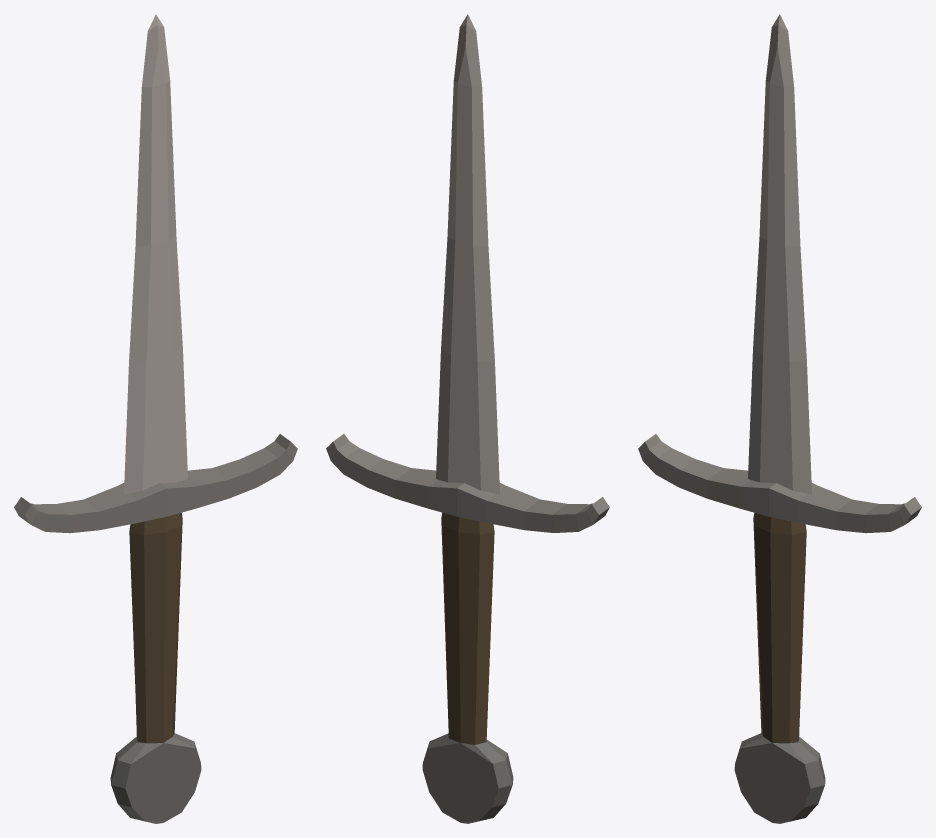
The model's file is SM_pwe_medieval_dagger_05.fbx.
3 views of the same model, side by side, from view 1: azimuth 30°, elevation 25°; view 2: azimuth 150°, elevation 25°; view 3: azimuth 330°, elevation 25° (orthographic).
Parts seen in each view (by area): view 1: SM_pwe_medieval_dagger_05; view 2: SM_pwe_medieval_dagger_05; view 3: SM_pwe_medieval_dagger_05.
Part boxes in pixels (left/top/right/bottom): SM_pwe_medieval_dagger_05: left=14, top=14, right=297, bottom=823; SM_pwe_medieval_dagger_05: left=326, top=14, right=609, bottom=823; SM_pwe_medieval_dagger_05: left=638, top=14, right=921, bottom=823.
Size of the model in its own units: 20.56 by 58.28 by 2.85.
